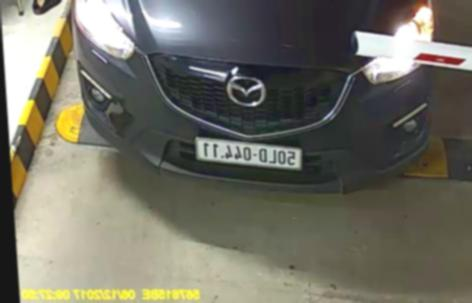License_Plate: (189, 137, 311, 168)
